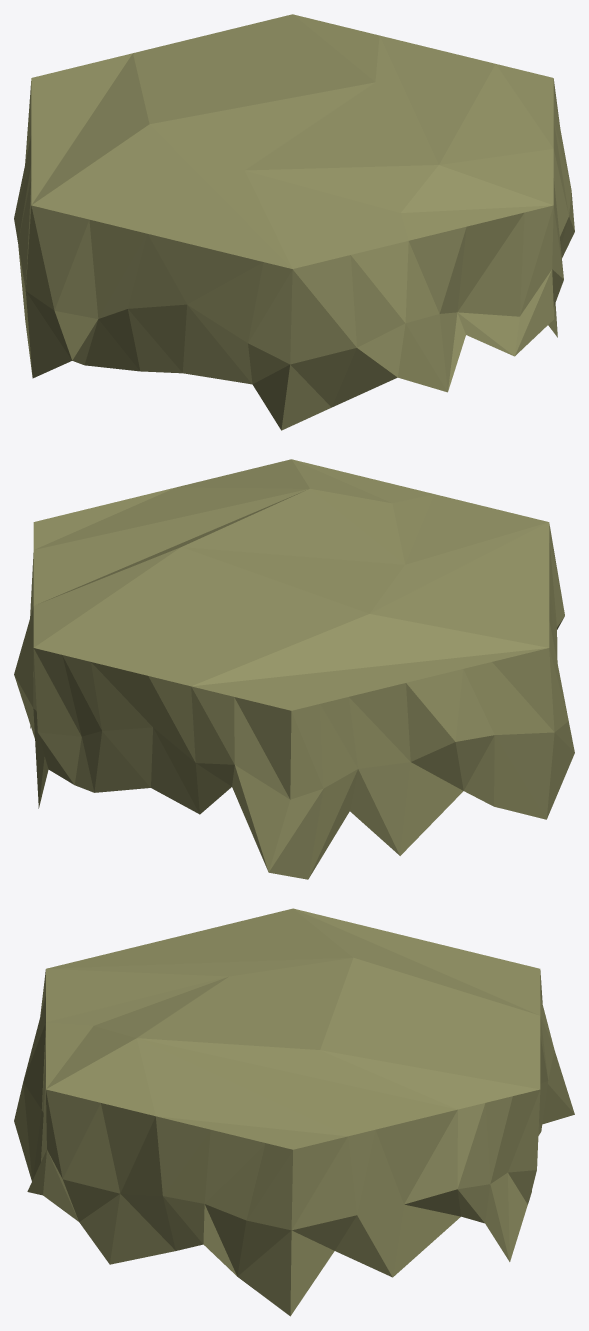
File: Hexagone 4.FBX
3 views of the same model, one above another, from view 1: azimuth 30°, elevation 25°; view 2: azimuth 150°, elevation 25°; view 3: azimuth 270°, elevation 25° (orthographic). The views are drawn at different scales.
Parts seen in each view (by area): view 1: Hexagone 2; view 2: Hexagone 2; view 3: Hexagone 2.
Boxes of the visible parts, x1,y1,x2,y2 form: Hexagone 2: (14, 14, 574, 430); Hexagone 2: (14, 459, 574, 879); Hexagone 2: (14, 908, 574, 1316).
Bounding box in the file's own units: 1013 × 371 × 982.
